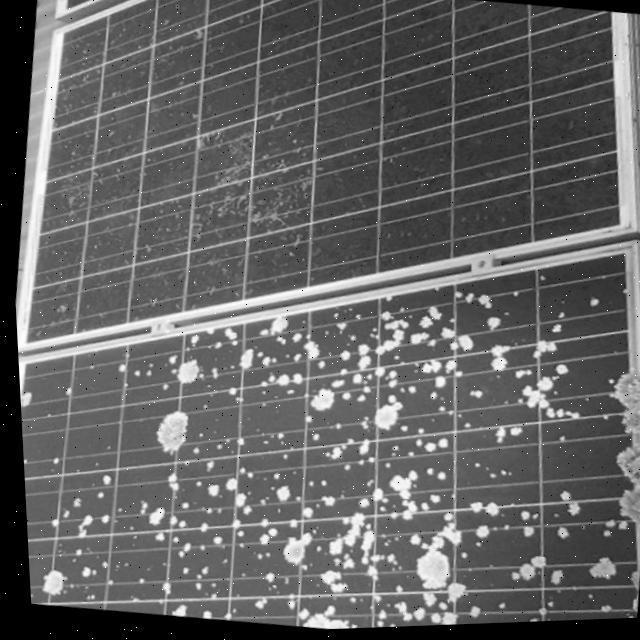Surface Contaminant: (24, 273, 640, 631), (307, 512, 373, 598), (514, 372, 582, 426), (129, 498, 201, 546), (348, 468, 414, 512), (601, 371, 640, 440), (381, 596, 457, 630), (406, 540, 448, 596), (327, 344, 372, 392), (146, 408, 187, 456), (412, 356, 460, 394), (362, 395, 405, 436), (368, 316, 406, 361), (196, 474, 246, 508), (268, 528, 310, 568), (288, 606, 350, 632), (606, 491, 640, 534), (498, 555, 543, 587), (608, 445, 640, 488), (428, 508, 462, 548), (574, 555, 613, 586), (229, 347, 269, 372), (168, 356, 198, 386), (302, 386, 330, 416), (31, 566, 59, 596), (445, 333, 472, 355)
